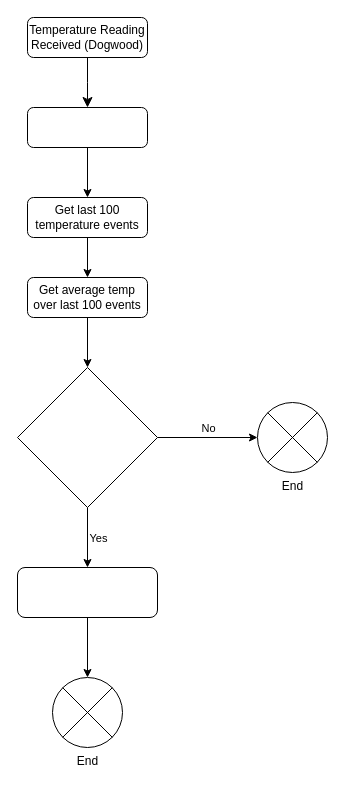
Image size: 345x786. Some labels were removed from this diagram. Each missing label, with the box of its shape:
Current temp > 10% above average?: (16, 366, 158, 508)
Insert derived_resident_event: (16, 566, 158, 618)
Insert disruptive_event: (26, 106, 148, 148)
